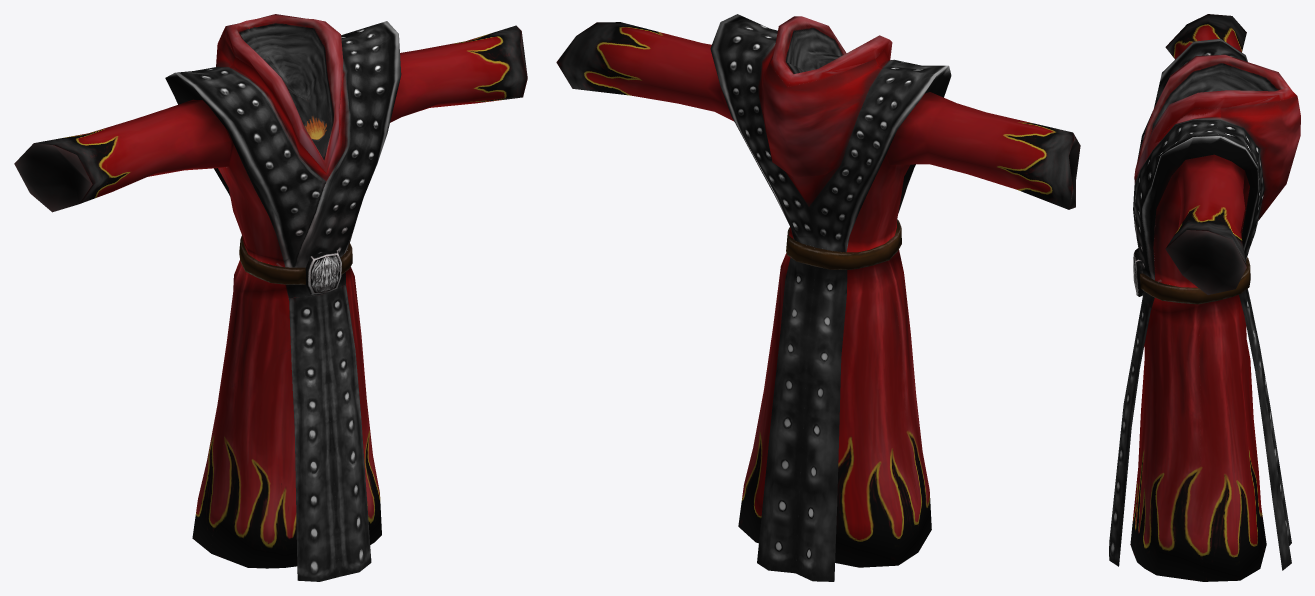
The model's file is Fire Mage Robe.fbx.
3 views of the same model, side by side, from view 1: azimuth 30°, elevation 25°; view 2: azimuth 150°, elevation 25°; view 3: azimuth 270°, elevation 25° (orthographic). The views are drawn at different scales.
Visible parts, largest first — view 1: fire mage robe; view 2: fire mage robe; view 3: fire mage robe.
Part boxes in pixels (<box>): fire mage robe: <box>14,14,527,581</box>; fire mage robe: <box>556,14,1080,581</box>; fire mage robe: <box>1109,14,1300,581</box>.
Size of the model in its own units: 1.6 by 1.53 by 0.5526.
Materials: 1 (1 with a texture image).
